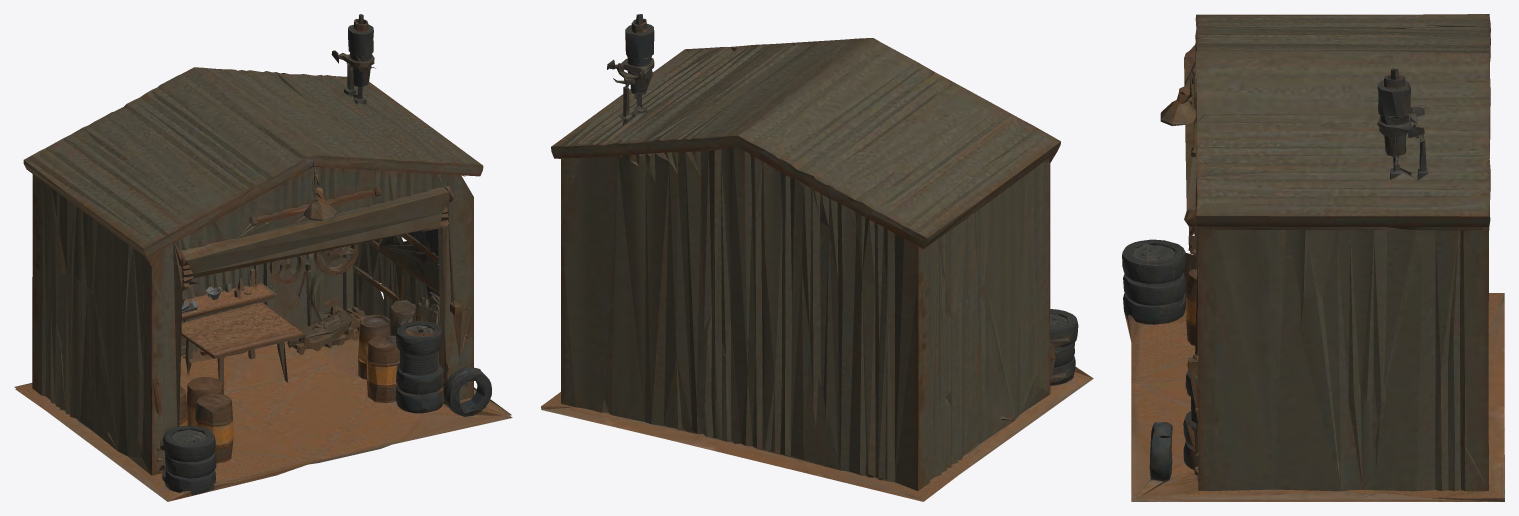
File: atelier_tomas.glb
3 views of the same model, side by side, from view 1: azimuth 30°, elevation 25°; view 2: azimuth 150°, elevation 25°; view 3: azimuth 270°, elevation 25° (orthographic). The views are drawn at different scales.
Bounding box in the file's own units: 1.9 × 1.75 × 1.5.
1 material, 1 textured.
